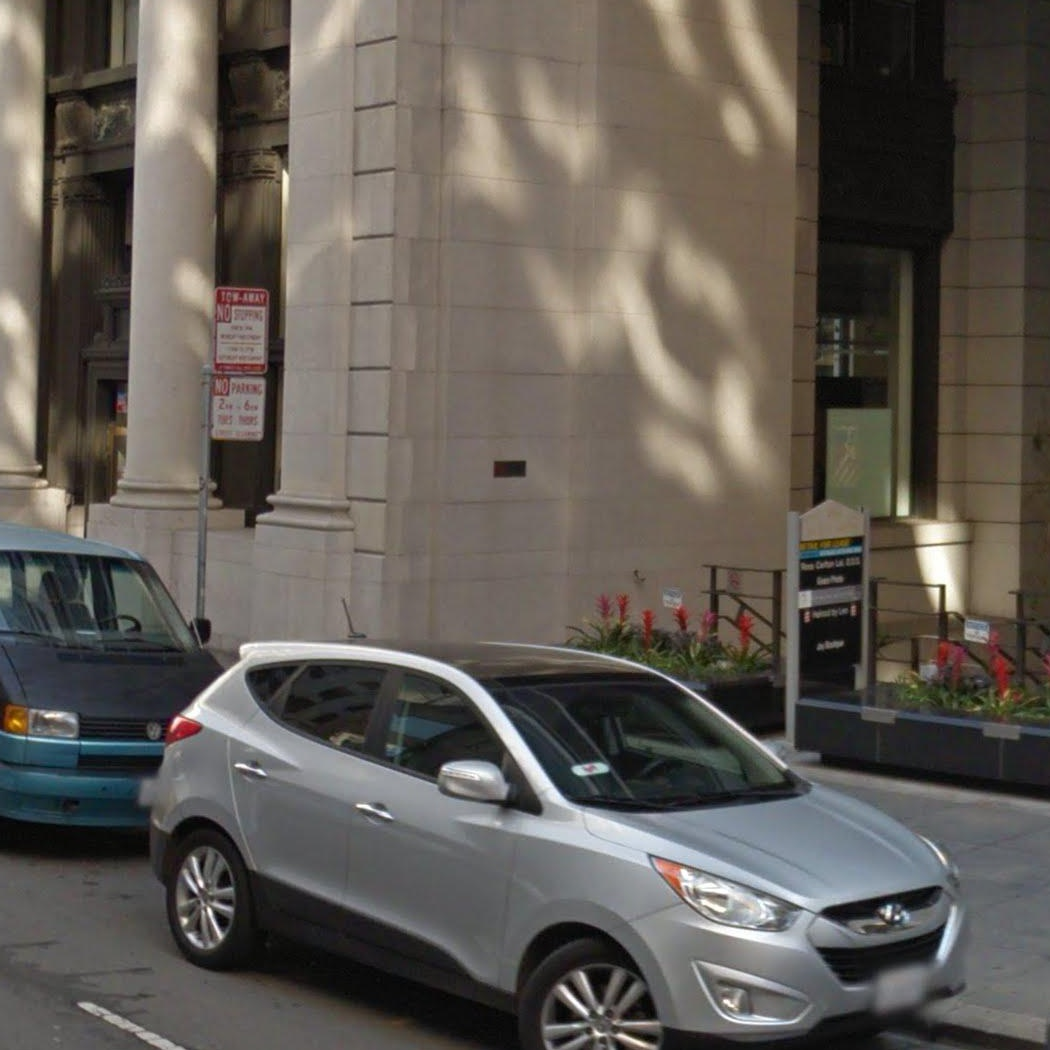No Parking: (213, 284, 270, 375), (210, 374, 267, 442)
